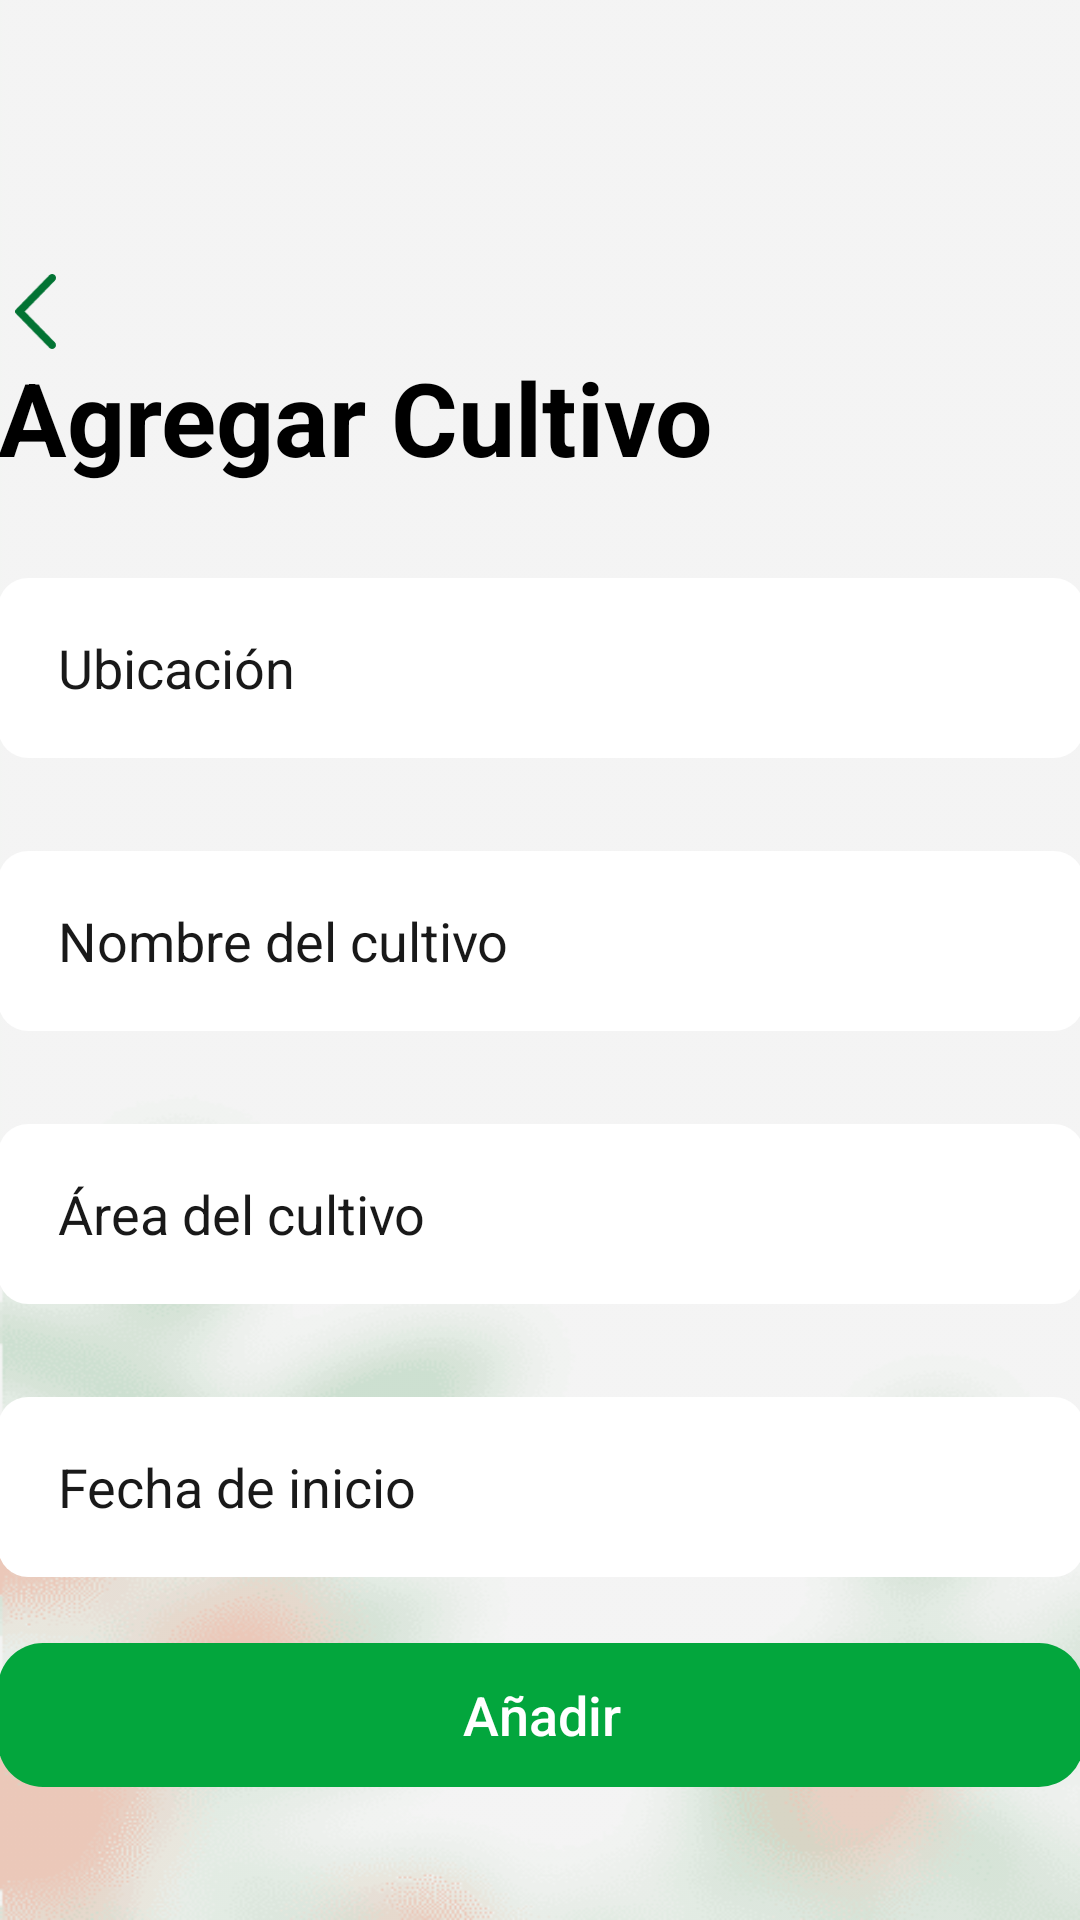

Icon bounding boxes for this 1080px x 1920px phone screenshot, format (left=x1, top=y1, right=x2, bottom=y2):
volver: (left=15, top=274, right=56, bottom=349)
